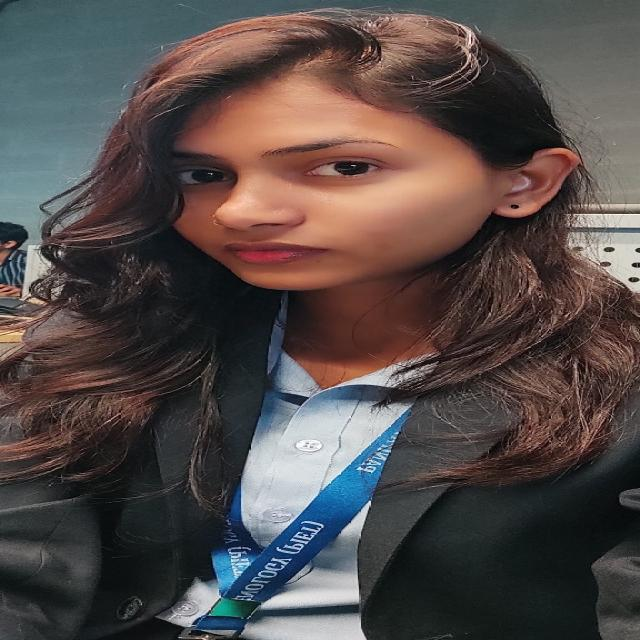uniform: (2, 290, 638, 638)
